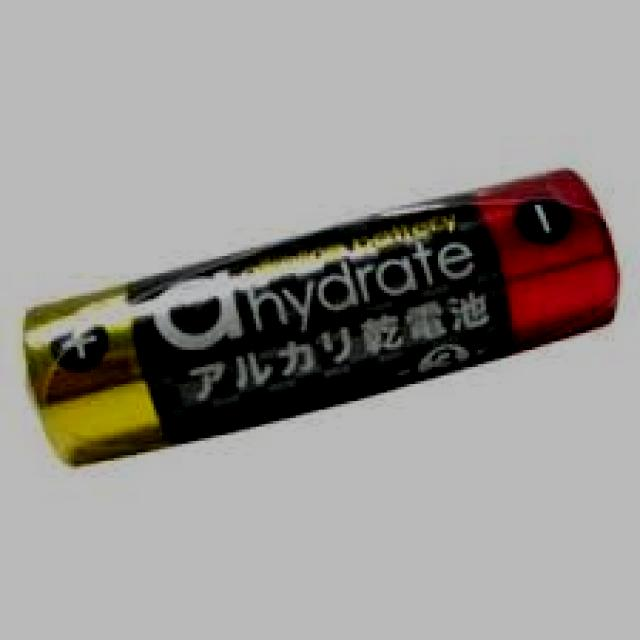AA: (12, 162, 629, 473)
